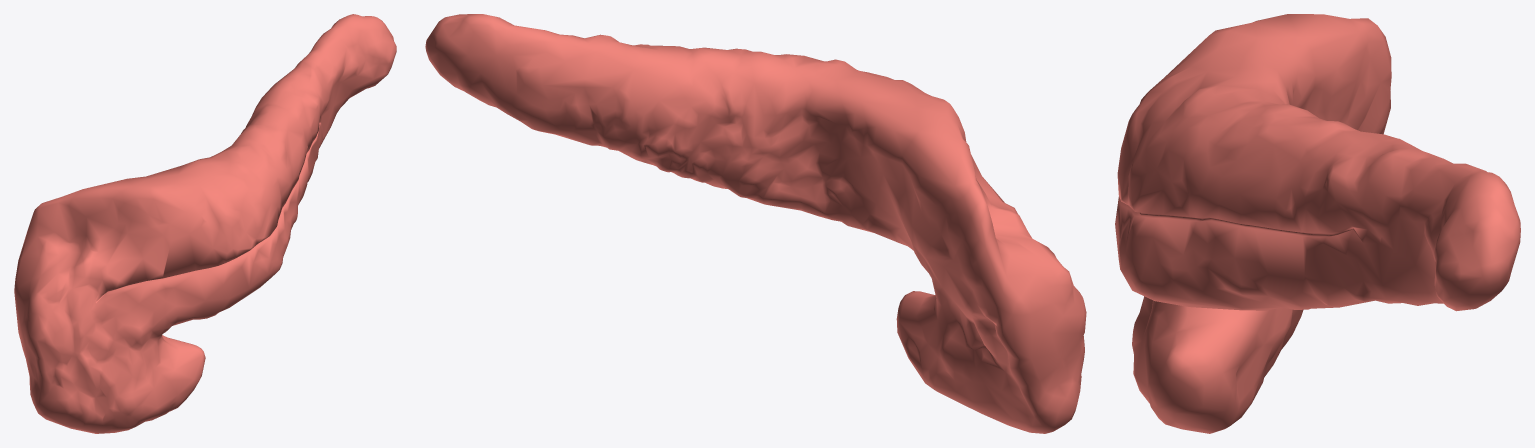
The model's file is Pancreas_New.glb.
3 views of the same model, side by side, from view 1: azimuth 30°, elevation 25°; view 2: azimuth 150°, elevation 25°; view 3: azimuth 270°, elevation 25° (orthographic). The views are drawn at different scales.
Visible parts, largest first — view 1: Pancreas; view 2: Pancreas; view 3: Pancreas.
Boxes of the visible parts, bbox=[...] form: Pancreas: bbox=[14, 14, 396, 433]; Pancreas: bbox=[425, 14, 1086, 433]; Pancreas: bbox=[1115, 14, 1520, 433].
Bounding box in the file's own units: 0.1287 × 0.0803 × 0.0581.
